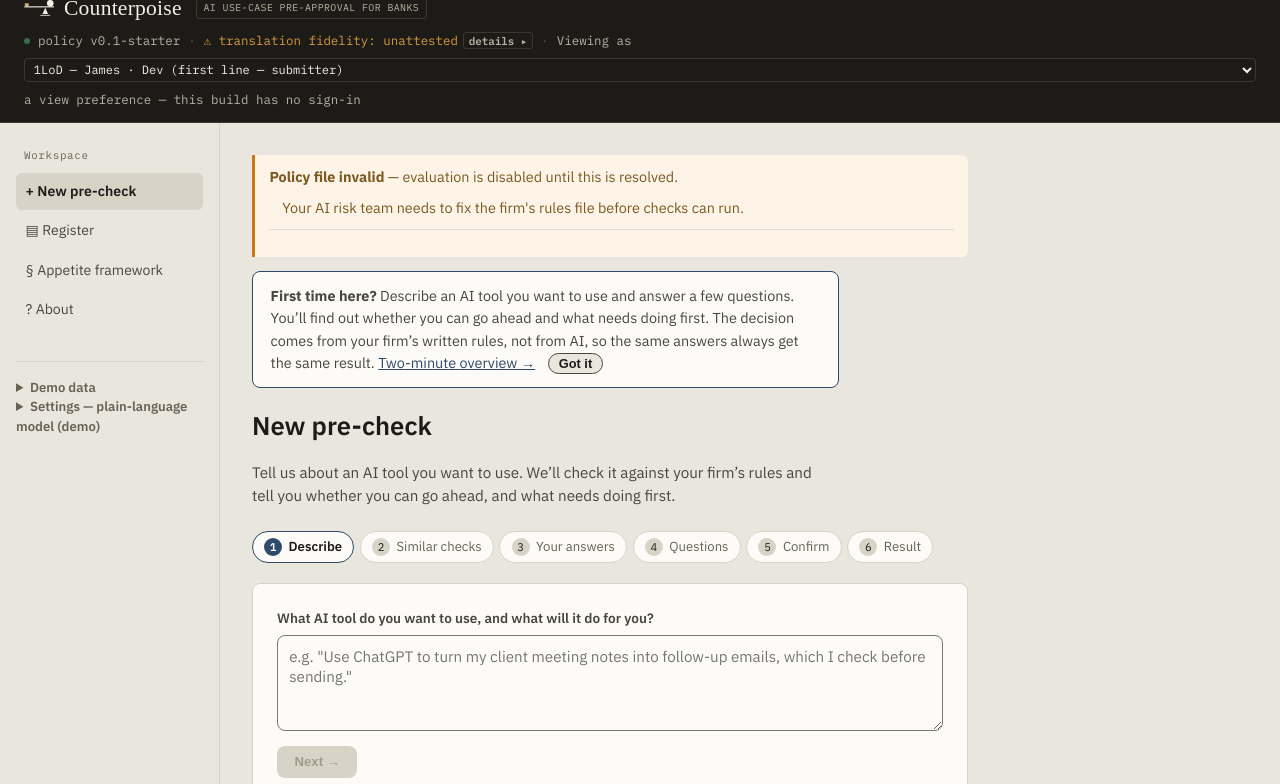
it: R16-E §5: "Answer the questions instead" (SWITCH_TO_FORM) › TC-R16-E-65: switches to the guided form with the typed description carried into question 2
The image size is (1280, 784).
Click the text box labelled "What AI tool do you want to use" at (610, 683), box left=277, top=635, right=943, bottom=731
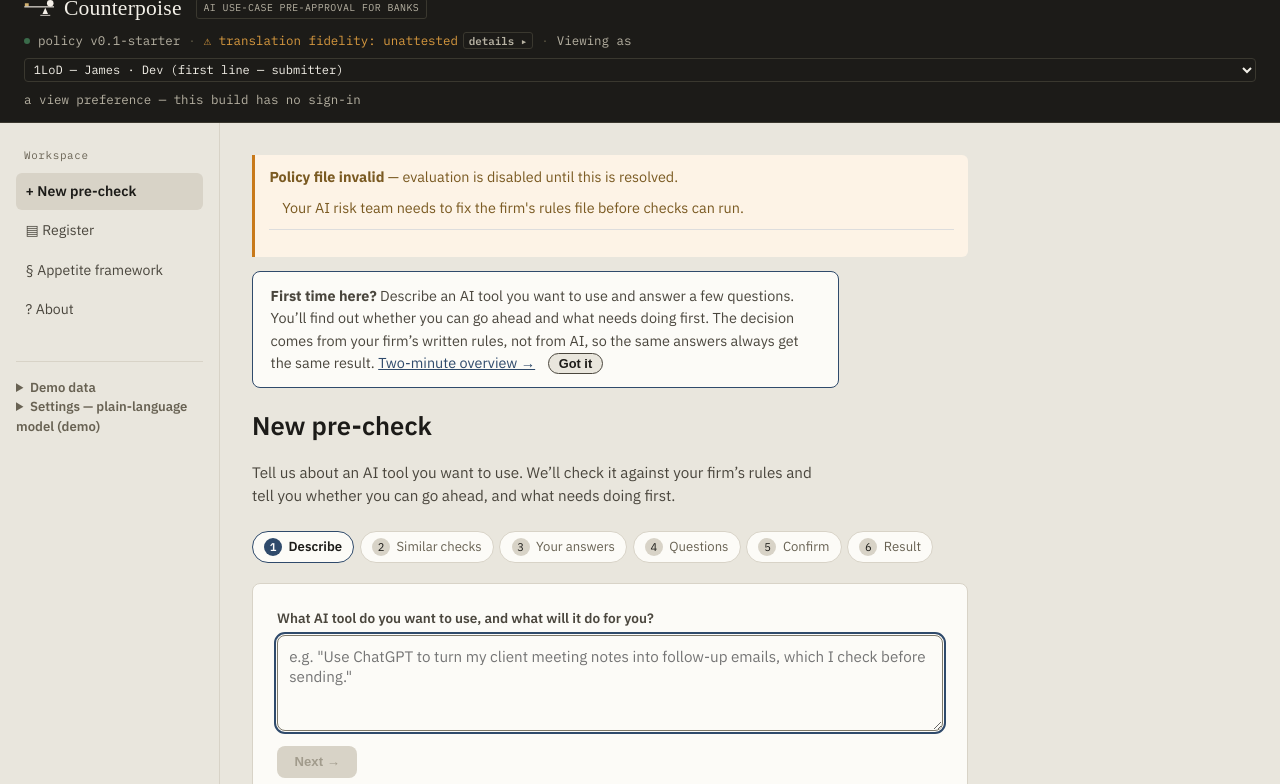
Type keys "A probe for switching to the form after an extraction failure."
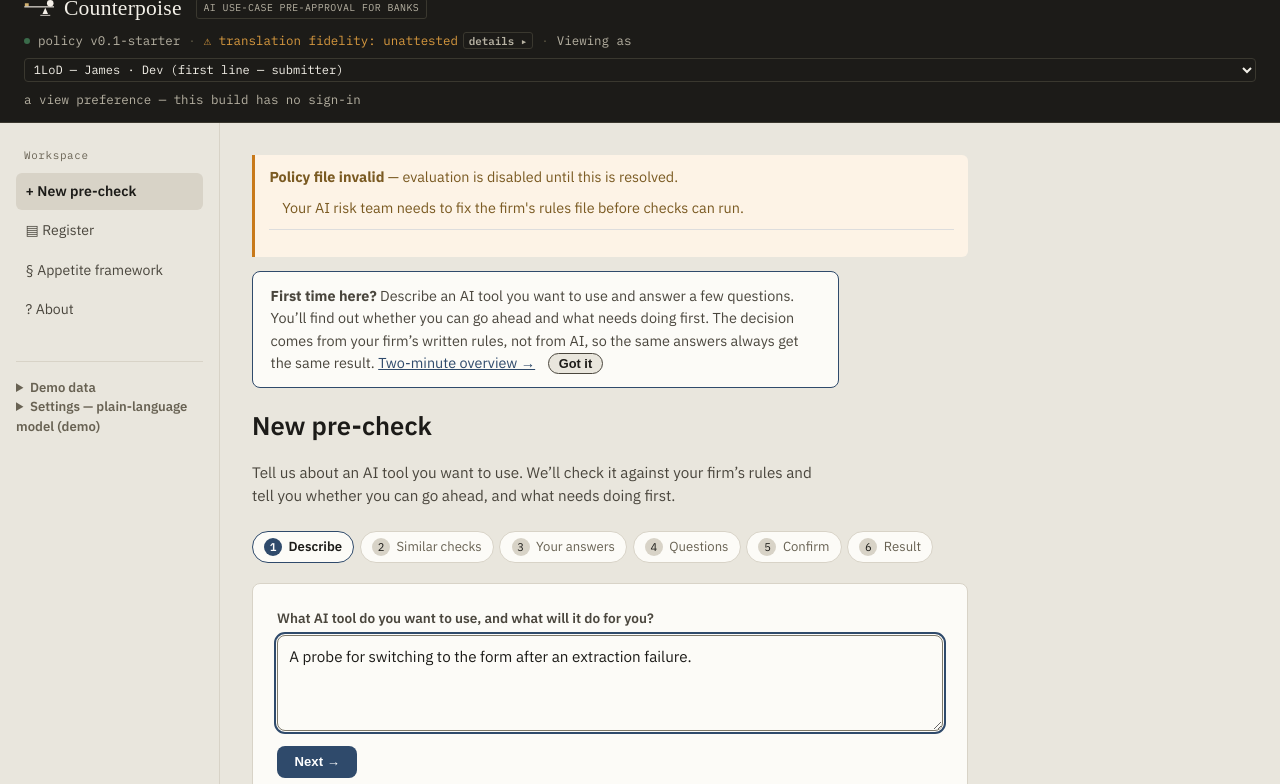
Click the button "Next →" at (317, 762), box left=277, top=746, right=357, bottom=778
(page scrolled)
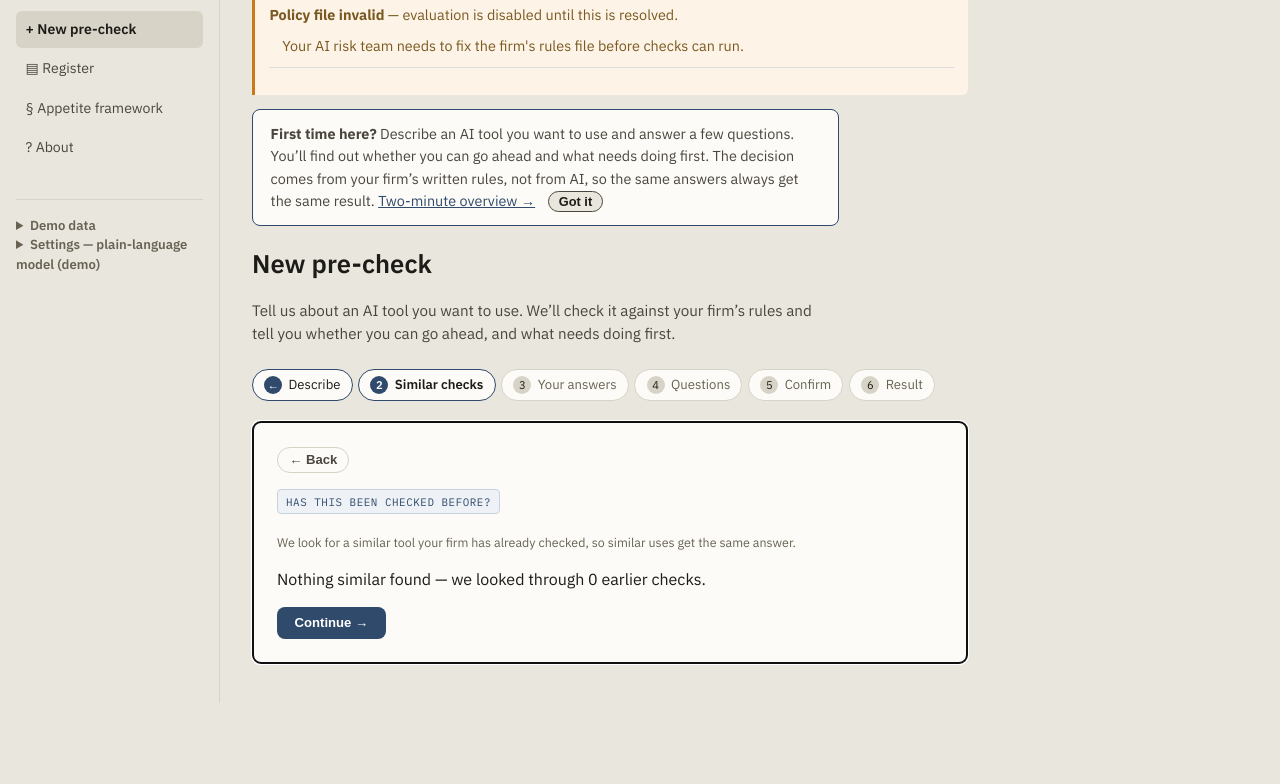
Click the button "Continue →" at (331, 623), box left=277, top=607, right=386, bottom=639
(page scrolled)
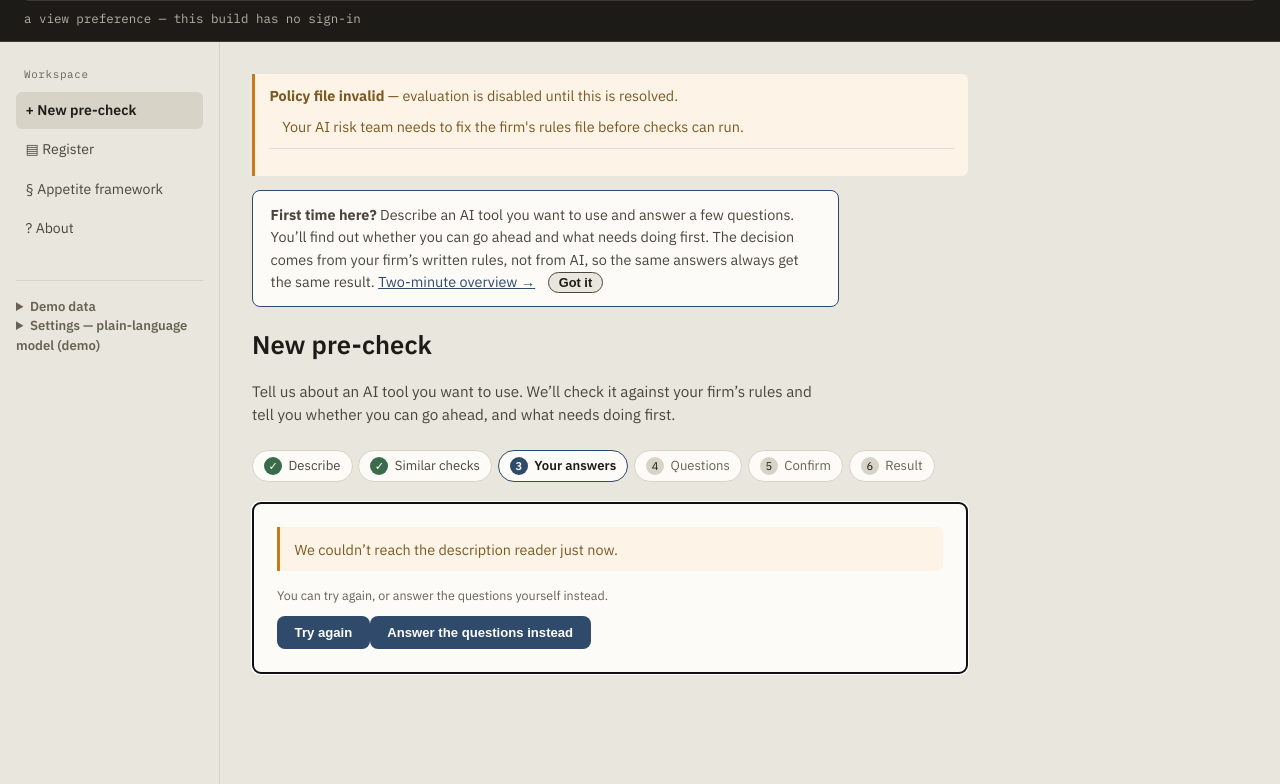
Expected: the text "We couldn’t reach the description reader just now." is shown, left=277, top=527, right=943, bottom=571
Click the button "Answer the questions instead" at (480, 632), box left=370, top=616, right=591, bottom=648
(page scrolled)
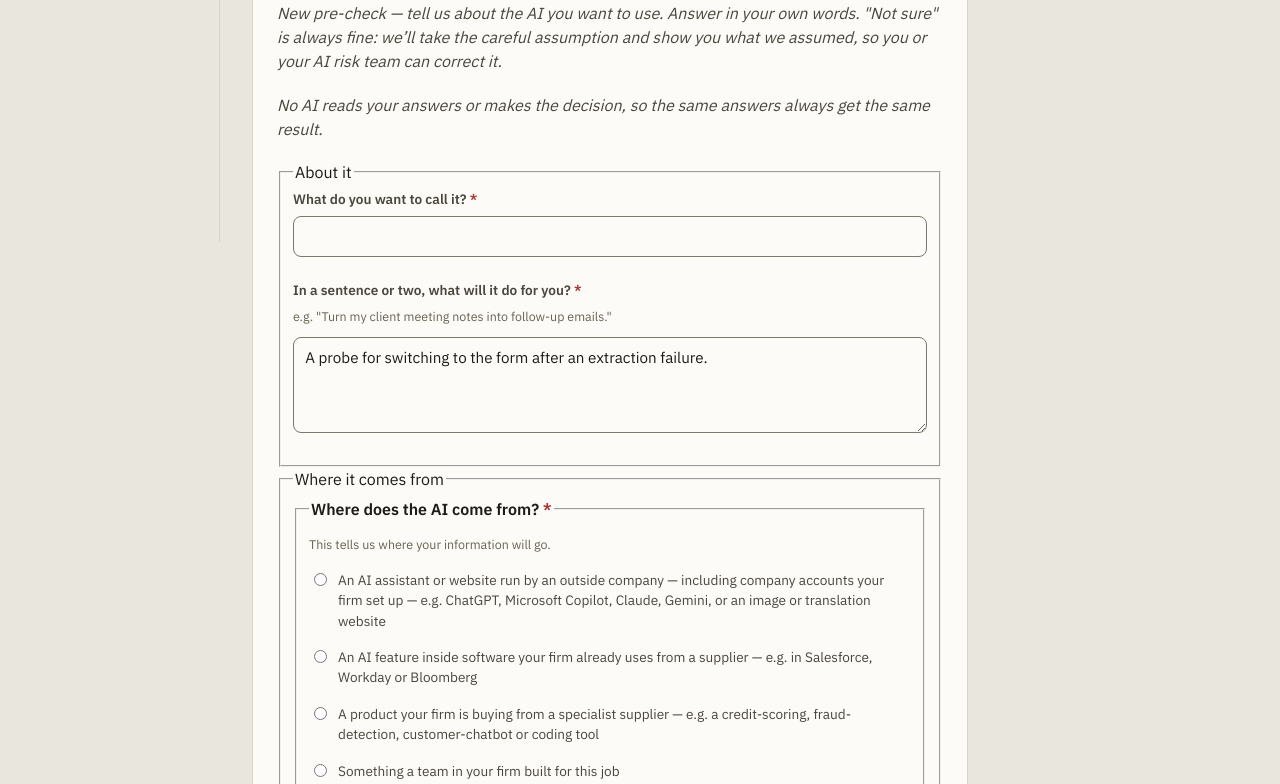
Expected: the text "New pre-check — tell us about the AI you want to use" is shown, left=277, top=3, right=938, bottom=71
Expected: the text box labelled "In a sentence or two, what will it do for you? *" holds "A probe for switching to the form after an extraction failure.", left=293, top=337, right=927, bottom=433
Expected: the text "We couldn’t reach the description reader just now." is gone
